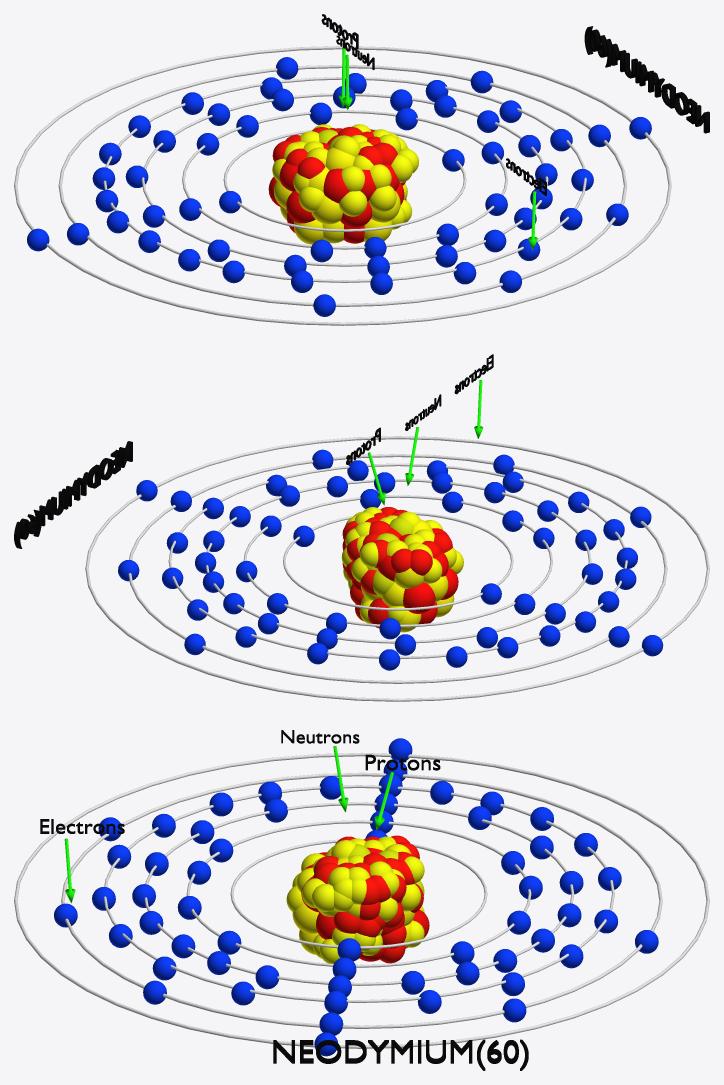
Rendered from Neodymium Amotic Model.glb.
3 renders of one model, top to bottom at view 1: azimuth 30°, elevation 25°; view 2: azimuth 150°, elevation 25°; view 3: azimuth 270°, elevation 25°, orthographic. The views are drawn at different scales.
Parts seen in each view (by area): view 1: Sphere.012, Torus.005, Torus.004, Text.002, Torus.003, Torus.002, Torus.001, Torus; view 2: Sphere.012, Torus.005, Torus.004, Text.002, Torus.003, Torus.002, Torus.001, Torus; view 3: Sphere.012, Torus.005, Torus.004, Text.002, Torus.003, Torus.002, Torus.001, Torus, Text, Text.003, Sphere.070.
Part boxes in pixels (x1,y1,x2,y2): Sphere.012: [268, 126, 413, 244]; Torus.005: [14, 46, 671, 325]; Torus.004: [58, 64, 627, 306]; Text.002: [584, 26, 709, 133]; Torus.003: [103, 77, 586, 282]; Torus.002: [141, 93, 548, 266]; Torus.001: [182, 110, 507, 249]; Torus: [223, 127, 466, 231]; Sphere.012: [341, 507, 463, 632]; Torus.005: [85, 436, 709, 701]; Torus.004: [128, 454, 667, 683]; Text.002: [14, 441, 132, 548]; Torus.003: [168, 463, 627, 658]; Torus.002: [206, 479, 591, 643]; Torus.001: [243, 495, 552, 627]; Torus: [283, 512, 513, 610]; Sphere.012: [286, 836, 429, 961]; Torus.005: [14, 752, 709, 1048]; Torus.004: [61, 772, 662, 1028]; Text.002: [273, 1039, 528, 1070]; Torus.003: [103, 785, 614, 1002]; Torus.002: [144, 802, 574, 985]; Torus.001: [186, 820, 531, 967]; Torus: [230, 839, 487, 948]; Text: [40, 819, 124, 833]; Text.003: [365, 754, 440, 770]; Sphere.070: [312, 884, 333, 911].
Size of the model in its own units: 7.33 by 2.34 by 6.72.
